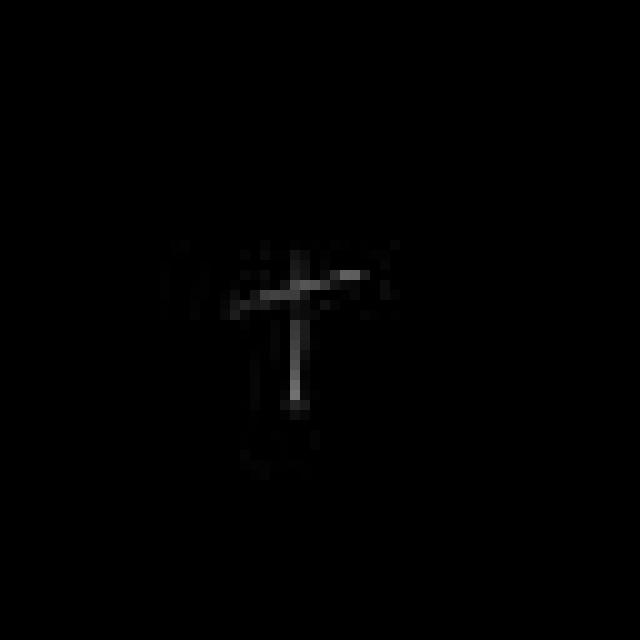10 -ten-: (220, 245, 370, 414)
